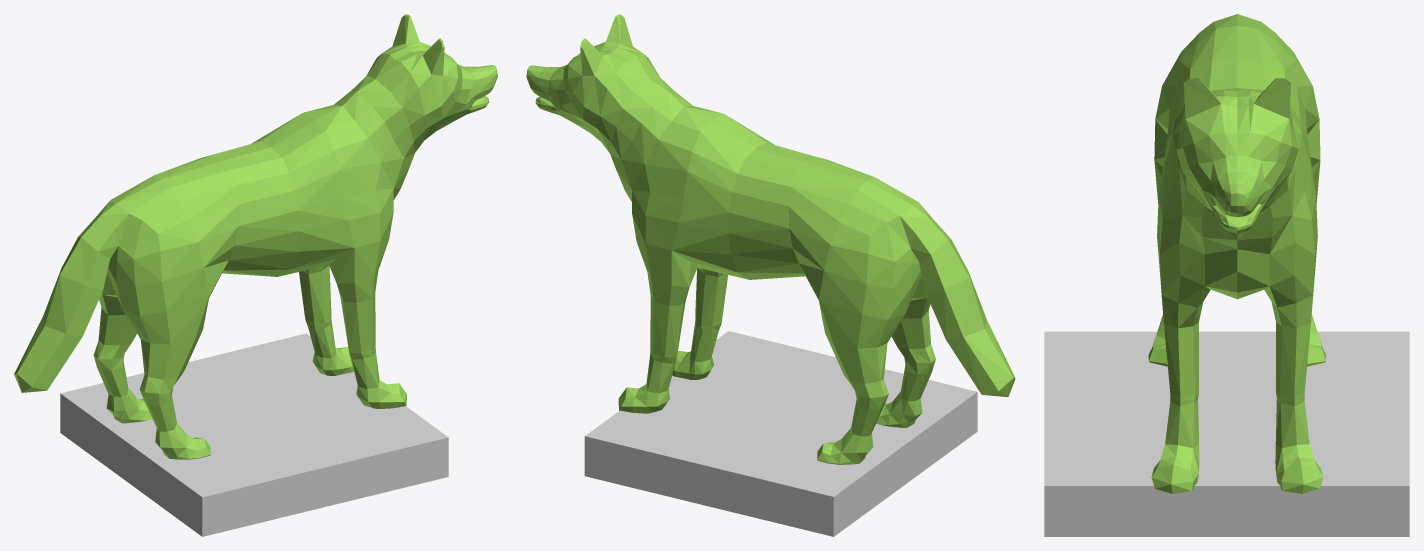
The model's file is Wolf.gltf.
3 views of the same model, side by side, from view 1: azimuth 30°, elevation 25°; view 2: azimuth 150°, elevation 25°; view 3: azimuth 270°, elevation 25° (orthographic). The views are drawn at different scales.
Visible parts, largest first — view 1: buffer-0-mesh-0, Box; view 2: buffer-0-mesh-0, Box; view 3: Box, buffer-0-mesh-0.
Part boxes in pixels (x1,y1,x2,y2): buffer-0-mesh-0: (14, 14, 497, 459); Box: (60, 333, 448, 536); buffer-0-mesh-0: (526, 14, 1015, 464); Box: (584, 331, 977, 536); Box: (1044, 331, 1409, 536); buffer-0-mesh-0: (1148, 14, 1326, 493).
Size of the model in its own units: 1.95 by 1.48 by 1.
